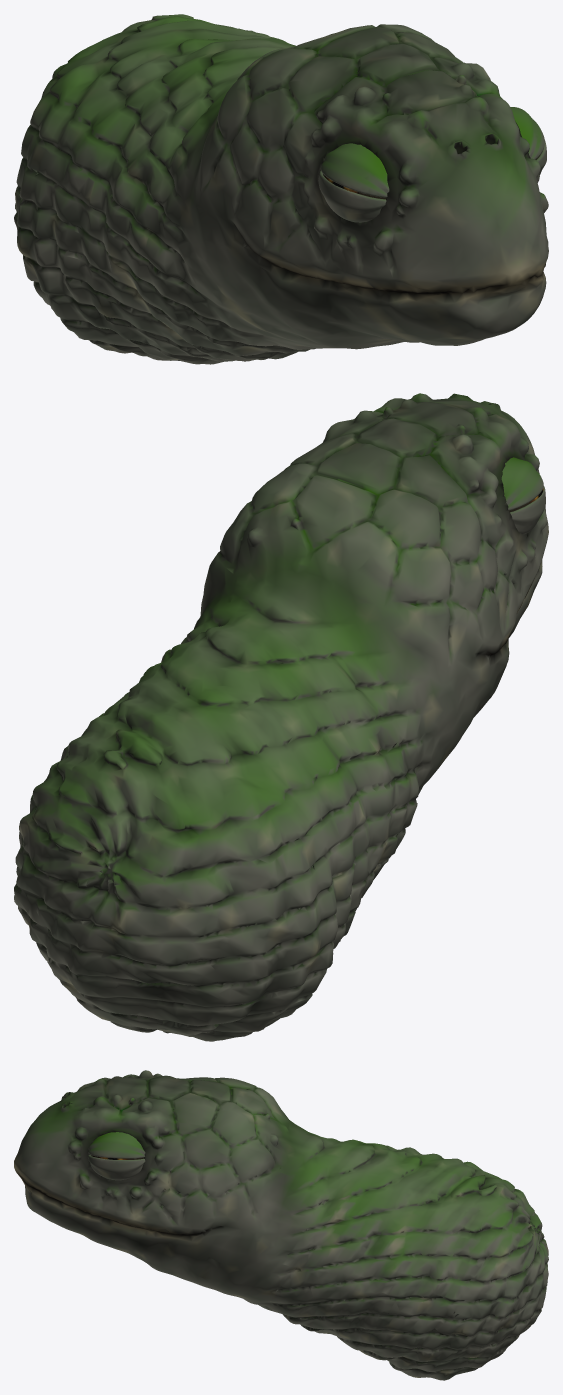
File: deepbreath-head.glb
3 views of the same model, one above another, from view 1: azimuth 30°, elevation 25°; view 2: azimuth 150°, elevation 25°; view 3: azimuth 270°, elevation 25° (orthographic). The views are drawn at different scales.
Parts seen in each view (by area): view 1: head, lidU_L, lidL_L, lidU_R; view 2: head, lidU_L, lidL_L; view 3: head, lidU_R, lidL_R.
Boxes of the visible parts, box(x1,y1,x2,y2) form: head: box(14, 14, 548, 364); lidU_L: box(320, 143, 389, 197); lidL_L: box(318, 171, 386, 222); lidU_R: box(510, 107, 544, 159); head: box(14, 393, 548, 1041); lidU_L: box(501, 457, 543, 510); lidL_L: box(510, 486, 545, 534); head: box(14, 1070, 548, 1380); lidU_R: box(88, 1132, 145, 1158); lidL_R: box(88, 1155, 145, 1180).
Size of the model in its own units: 1.36 by 1.96 by 3.32.
